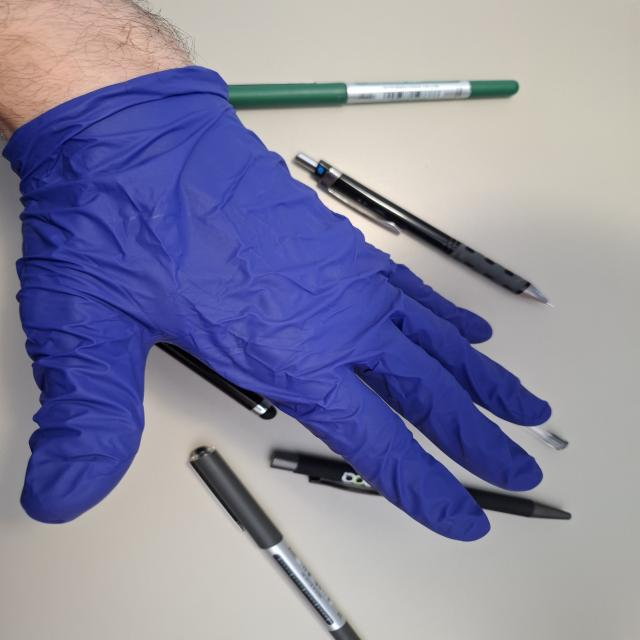glove_on: (4, 64, 555, 545)
